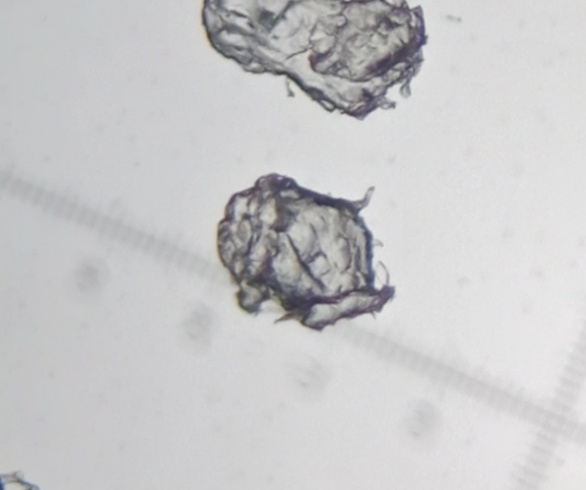microplastic: (207, 162, 407, 338), (196, 1, 434, 120)
